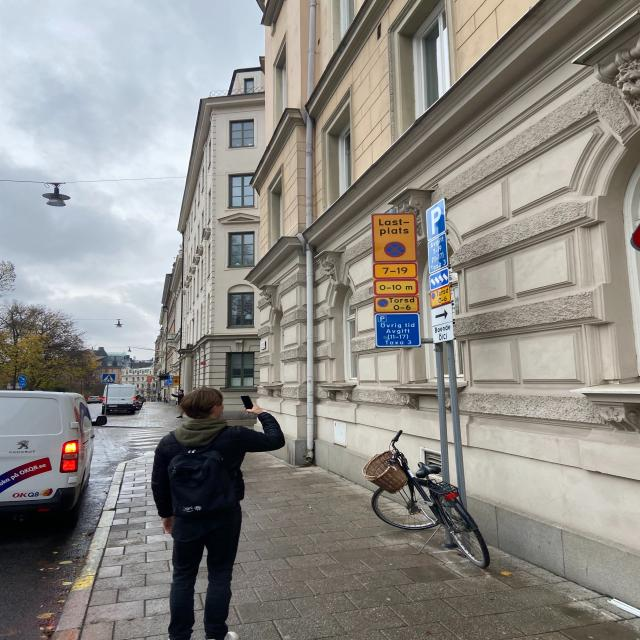lastplats: (370, 213, 415, 264)
psign: (423, 201, 448, 237)
